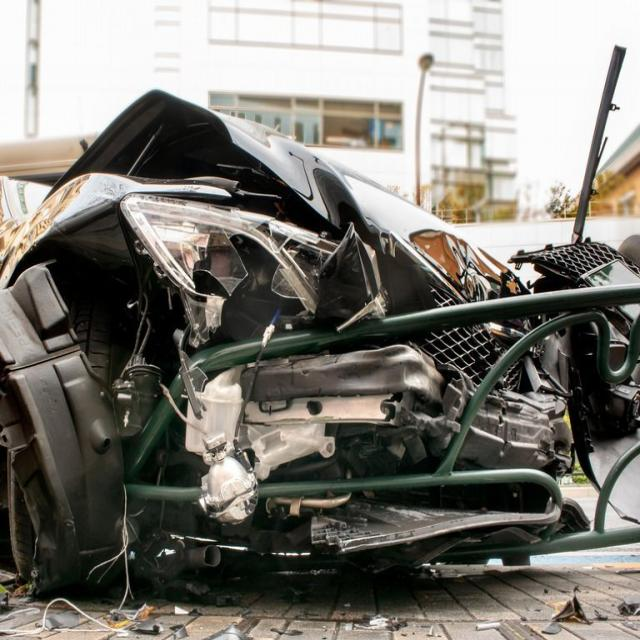accident: (9, 97, 621, 599)
